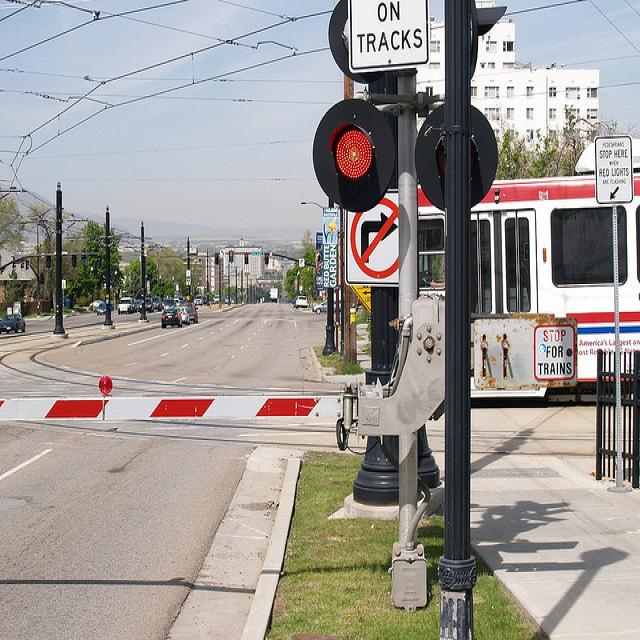Vehicle: (86, 286, 235, 310), (0, 314, 26, 334), (161, 308, 182, 330), (118, 295, 133, 316), (182, 303, 198, 322), (138, 296, 154, 312), (176, 306, 190, 324), (312, 299, 326, 315), (163, 298, 176, 310), (153, 296, 162, 312), (294, 296, 308, 306), (194, 294, 204, 306), (97, 304, 105, 315), (174, 298, 182, 306)
